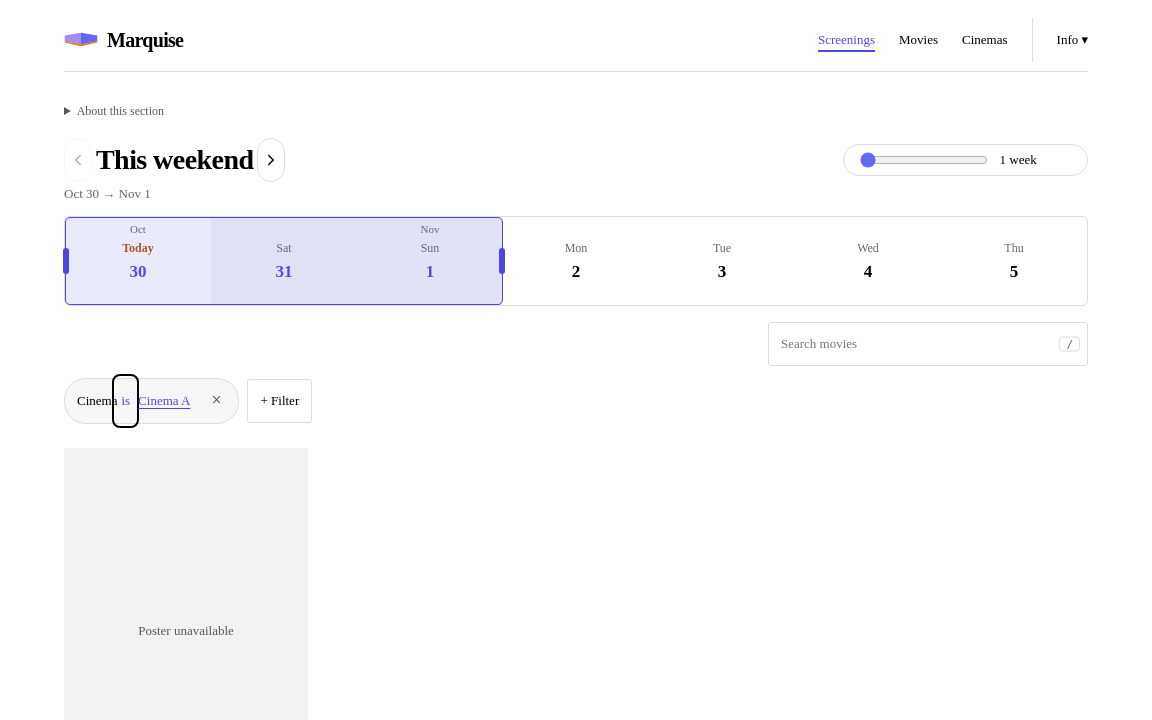
Test case: minimalist prototype › adds, edits, flips, and removes cinema and time filter chips
Earlier steps of the test are not shown.
Later steps or results of the test are not shown.
Expected: the element named "cinema filter" shows "Cinema is Cinema A", left=64, top=378, right=240, bottom=424
What coordinates should you click on to do the following:
click the heading "Cinema A"
I would click on:
 (164, 400)
Its box is left=138, top=393, right=190, bottom=408.
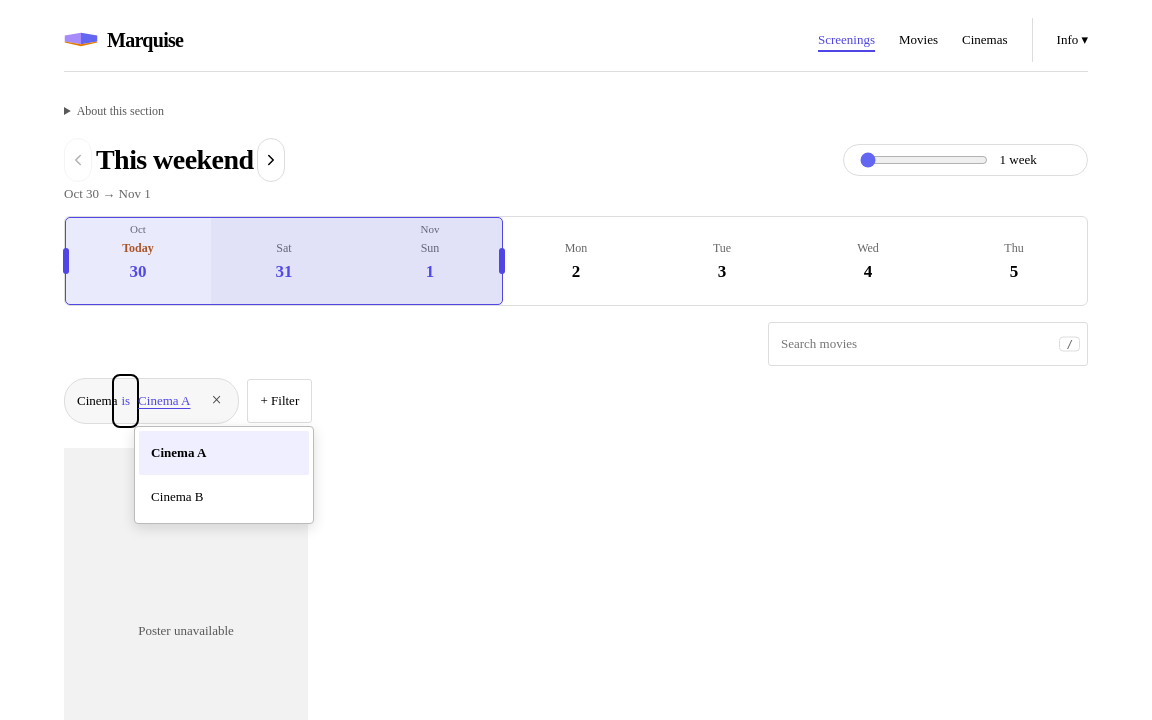
What coordinates should you click on to do the following:
click the button "Cinema B"
I would click on:
 (224, 496)
Its box is left=139, top=474, right=309, bottom=518.
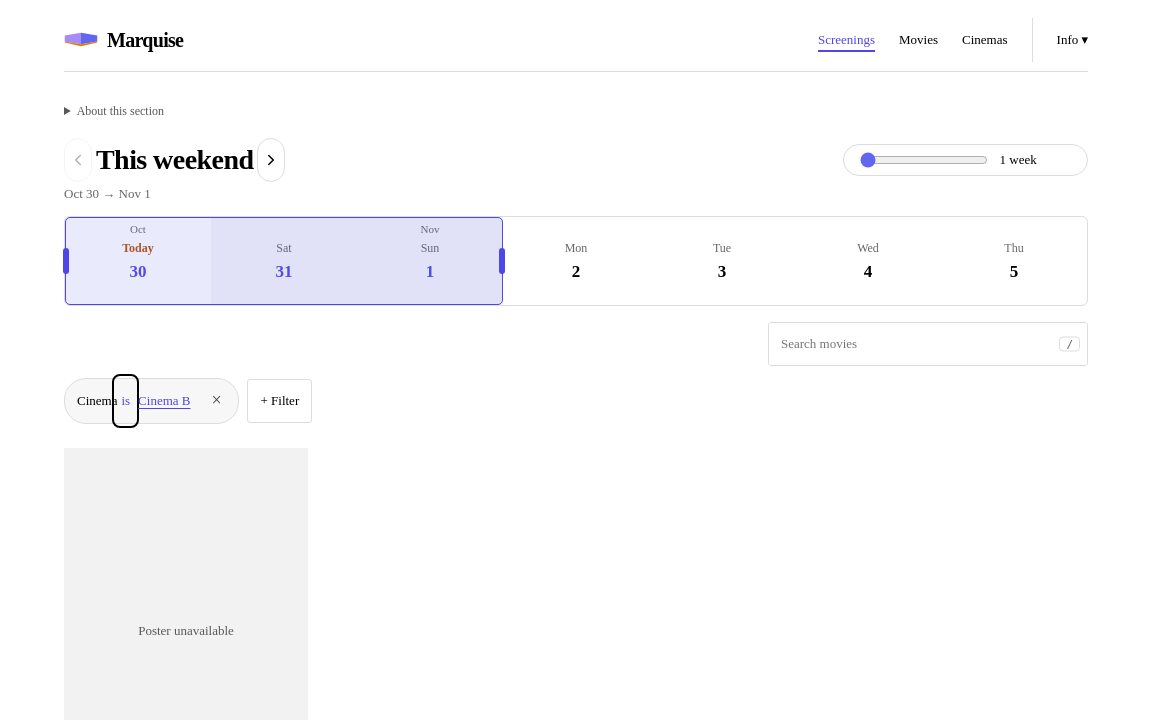
Expected: the element named "cinema filter" shows "Cinema is Cinema B", left=64, top=378, right=240, bottom=424
What coordinates should you click on to do the following:
click the button with aria-label "Change cinema operator from is"
I would click on:
 (126, 400)
Its box is left=117, top=378, right=134, bottom=422.
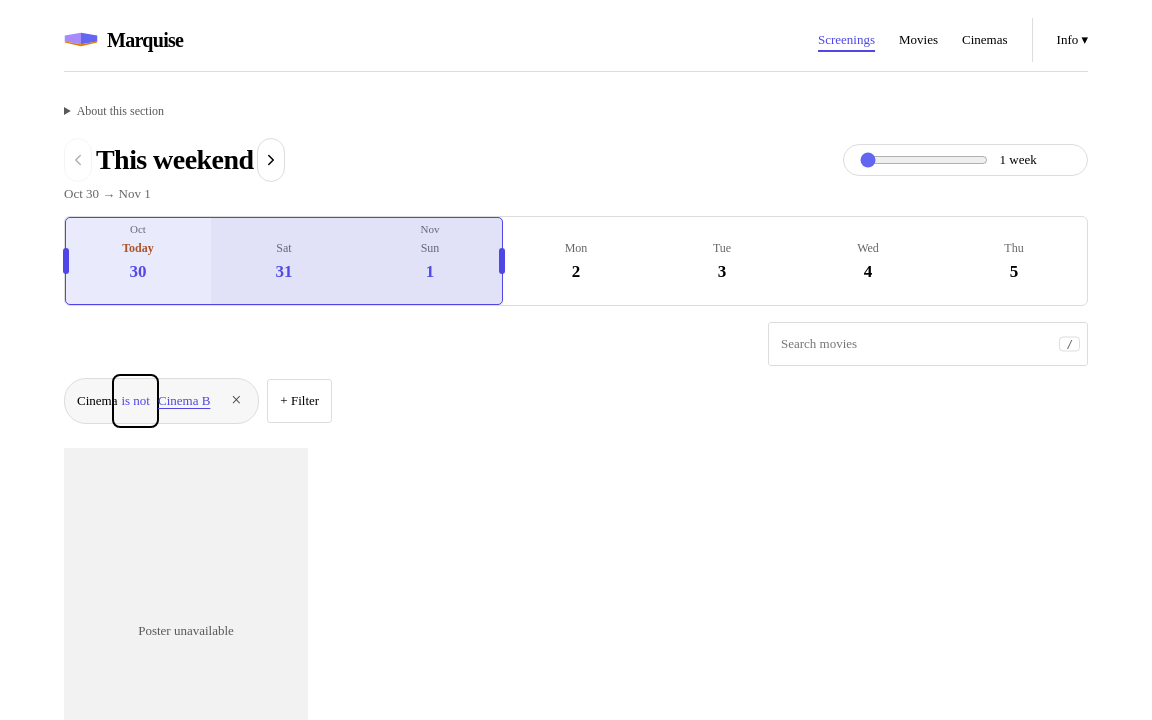
Expected: the element named "cinema filter" shows "Cinema is not Cinema B", left=64, top=378, right=259, bottom=424
What coordinates should you click on to do the following:
click the heading "+ Filter"
I would click on:
 (300, 400)
Its box is left=267, top=378, right=332, bottom=422.
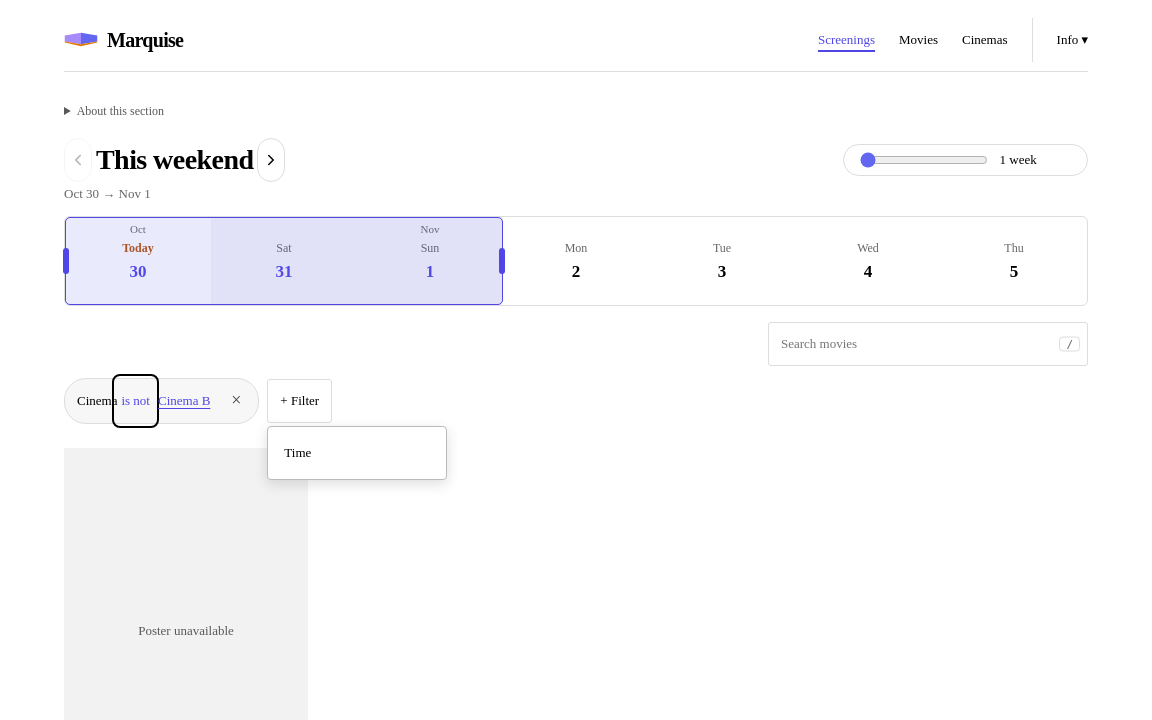
What coordinates should you click on to do the following:
click the button "Time"
I would click on:
 (357, 452)
Its box is left=272, top=430, right=442, bottom=474.
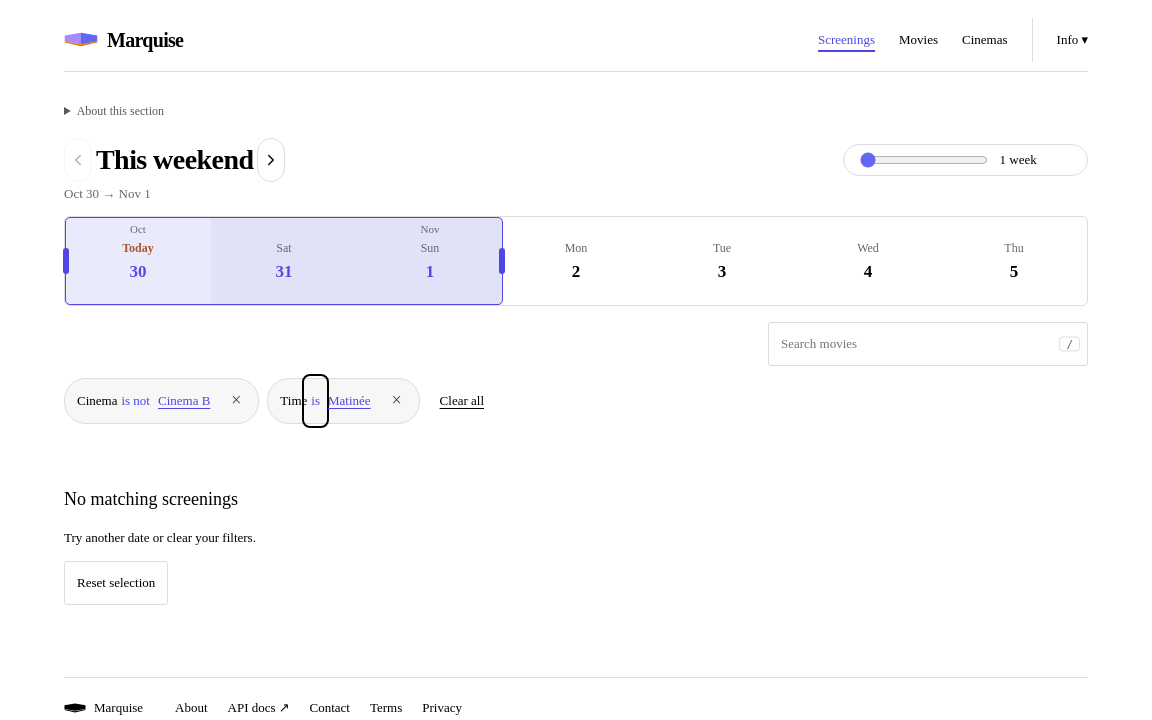
Expected: the element named "time filter" shows "Time is Matinée", left=267, top=378, right=420, bottom=424
Expected: the button "Clear all" is shown, left=428, top=378, right=496, bottom=422
What coordinates should you click on to do the following:
click the button named "Remove cinema filter"
I would click on:
 (236, 400)
Its box is left=214, top=378, right=258, bottom=422.
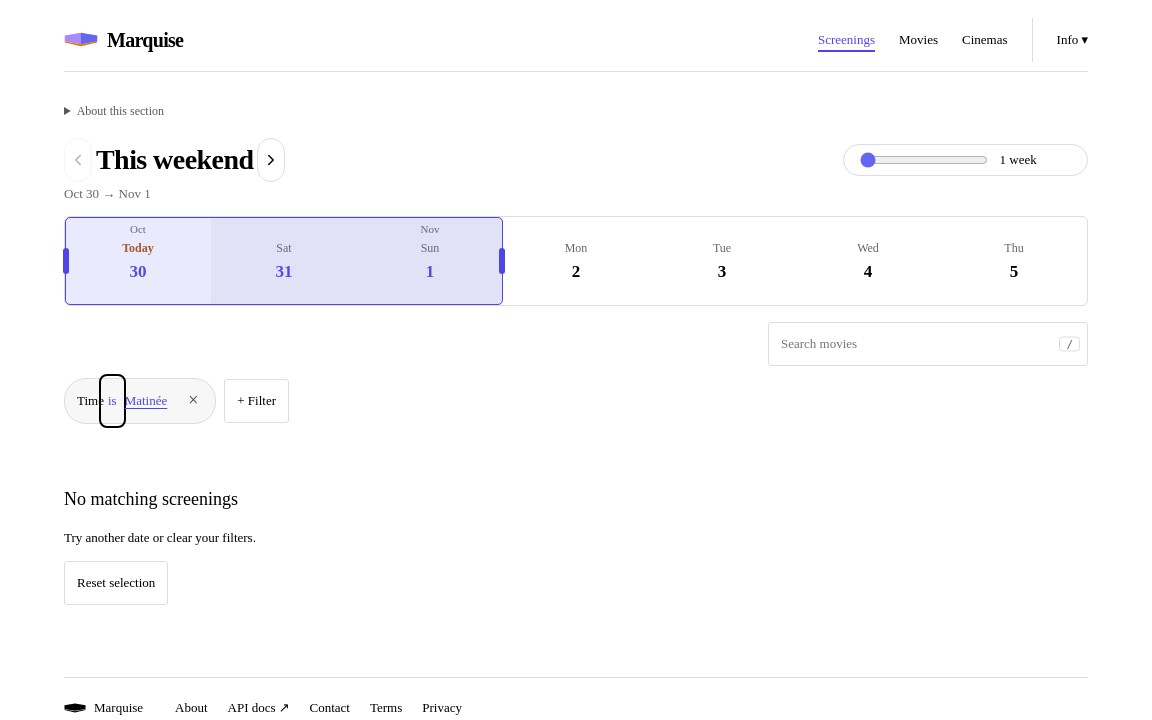
Expected: the button "Clear all" is gone
